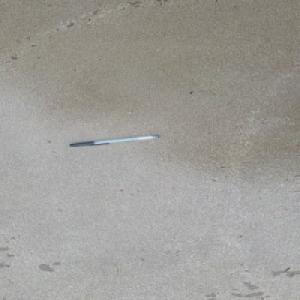Pen: (67, 134, 159, 147)
